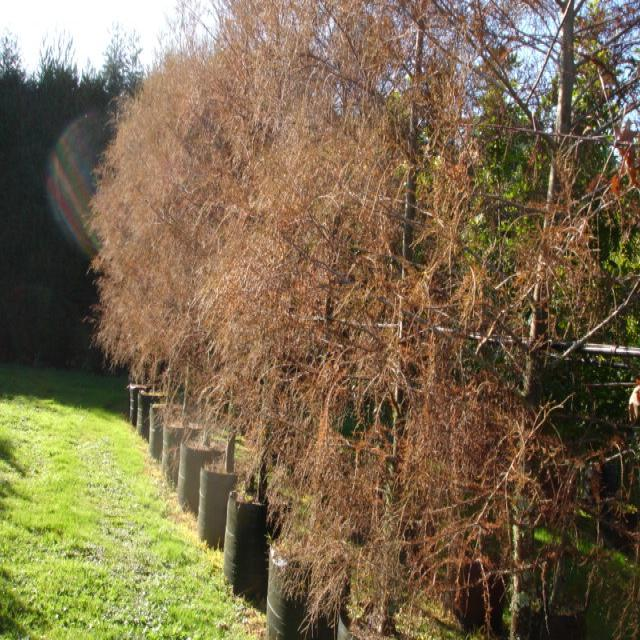Kahikatea: (256, 1, 414, 632), (214, 9, 246, 552), (170, 31, 208, 487), (115, 95, 164, 426)
